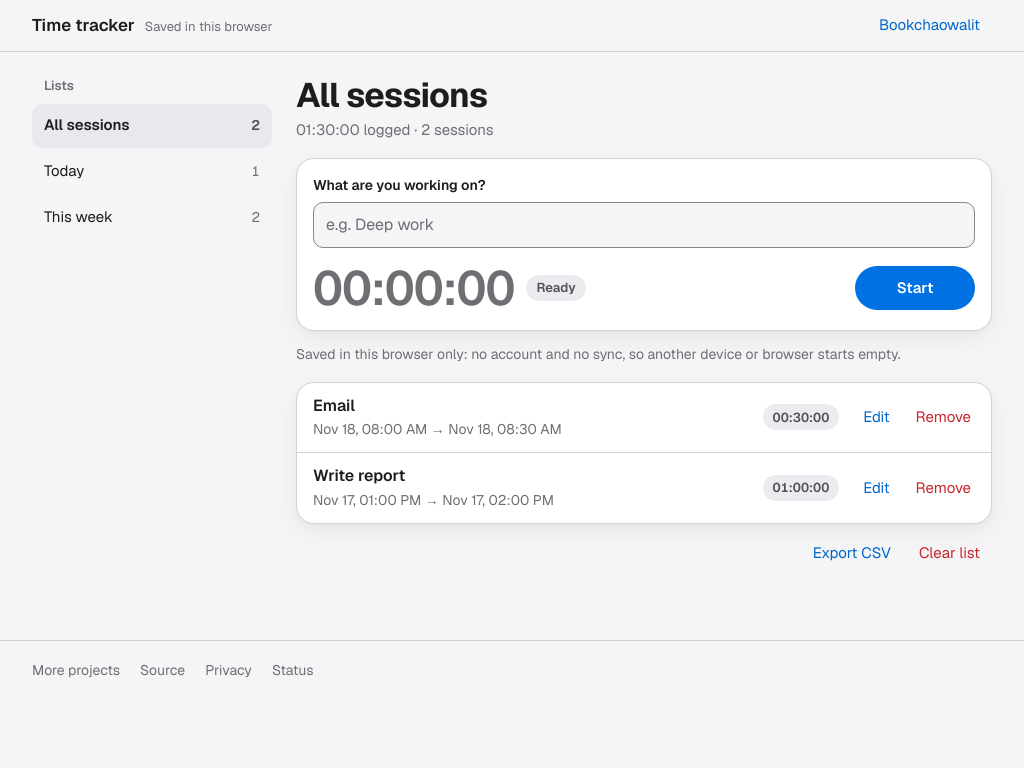
it: lists › Today hides sessions from earlier days and has its own empty state
The image size is (1024, 768).
Click the button "Today 1" at (152, 172), box [32,150,272,194]
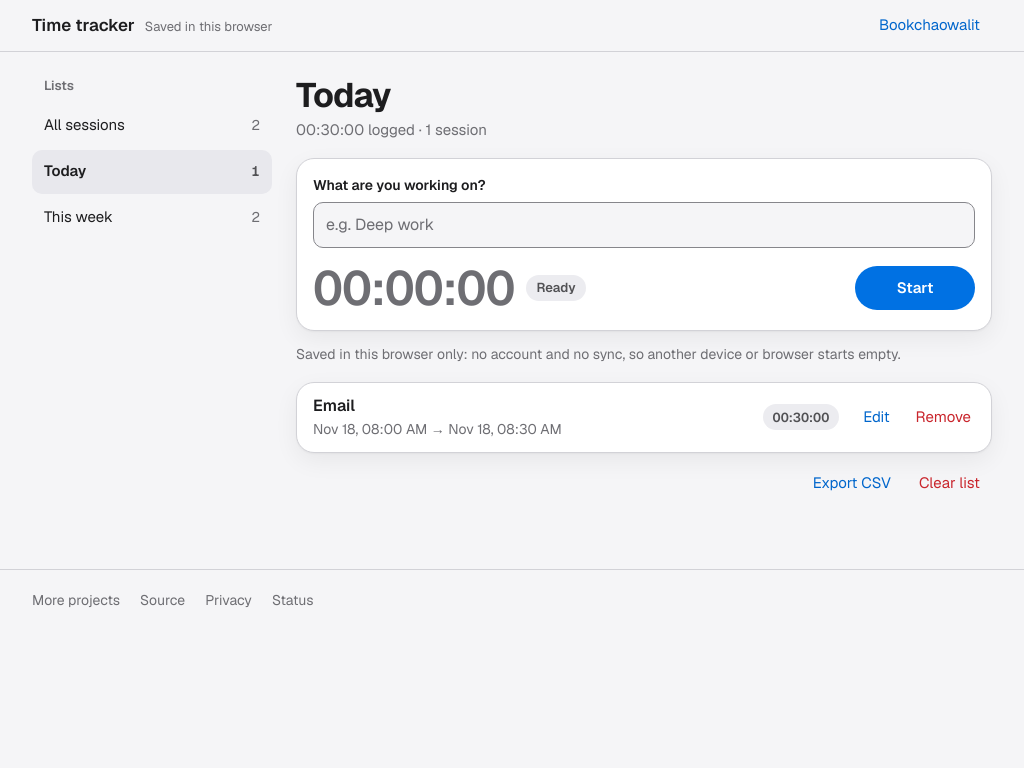
Check: the heading "Today" is shown, box [296,73,391,117]
Check: the text "00:30:00 logged · 1 session" is shown, box [296,119,487,142]
